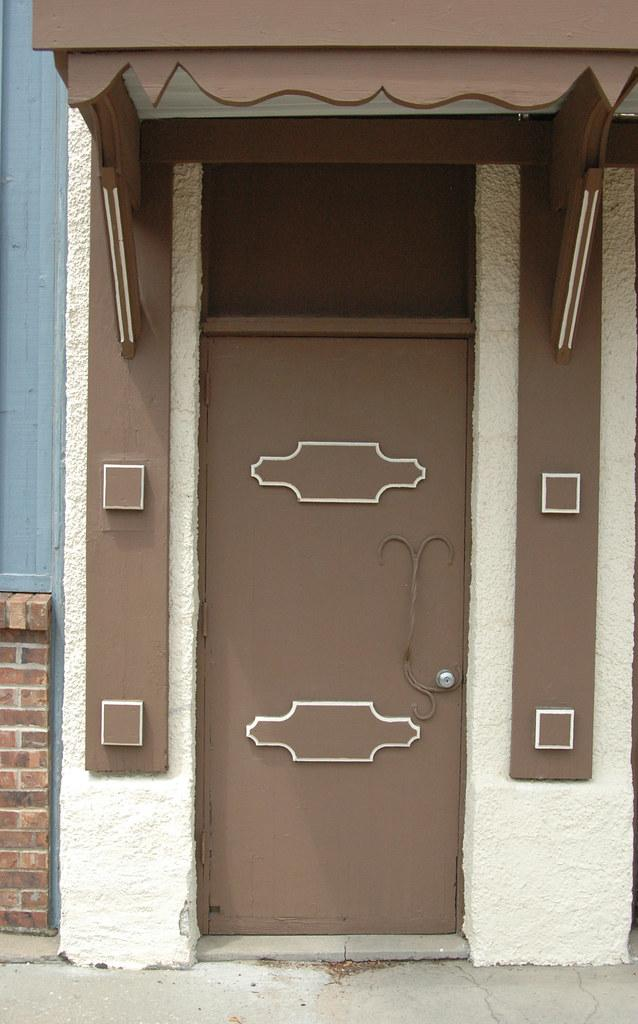door: (196, 330, 471, 937)
